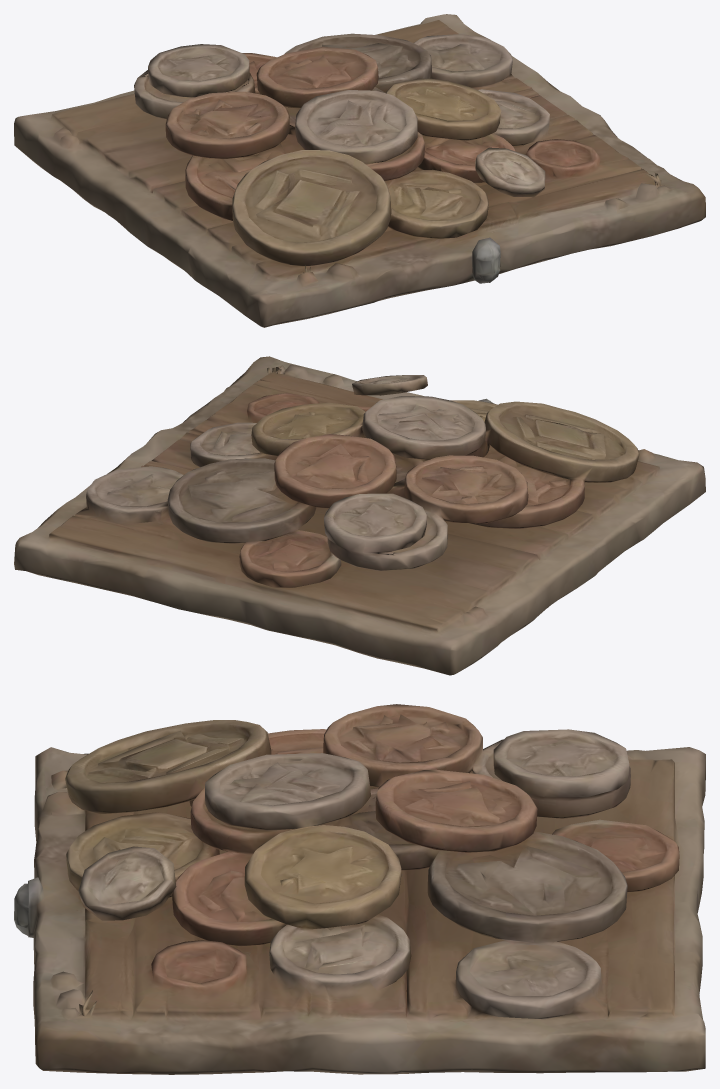
The model's file is item_coins.glb.
3 renders of one model, top to bottom at view 1: azimuth 30°, elevation 25°; view 2: azimuth 150°, elevation 25°; view 3: azimuth 270°, elevation 25°, orthographic. The views are drawn at different scales.
Visible parts, largest first — view 1: tripo_node_008e9b9d-c8f7-4b21-8547-6873c082d613; view 2: tripo_node_008e9b9d-c8f7-4b21-8547-6873c082d613; view 3: tripo_node_008e9b9d-c8f7-4b21-8547-6873c082d613.
Part boxes in pixels (x1,y1,x2,y2): tripo_node_008e9b9d-c8f7-4b21-8547-6873c082d613: [14, 14, 705, 327]; tripo_node_008e9b9d-c8f7-4b21-8547-6873c082d613: [14, 356, 705, 675]; tripo_node_008e9b9d-c8f7-4b21-8547-6873c082d613: [14, 704, 705, 1074].
Size of the model in its own units: 0.9908 by 0.2242 by 1.
Materials: 1 (1 with a texture image).
